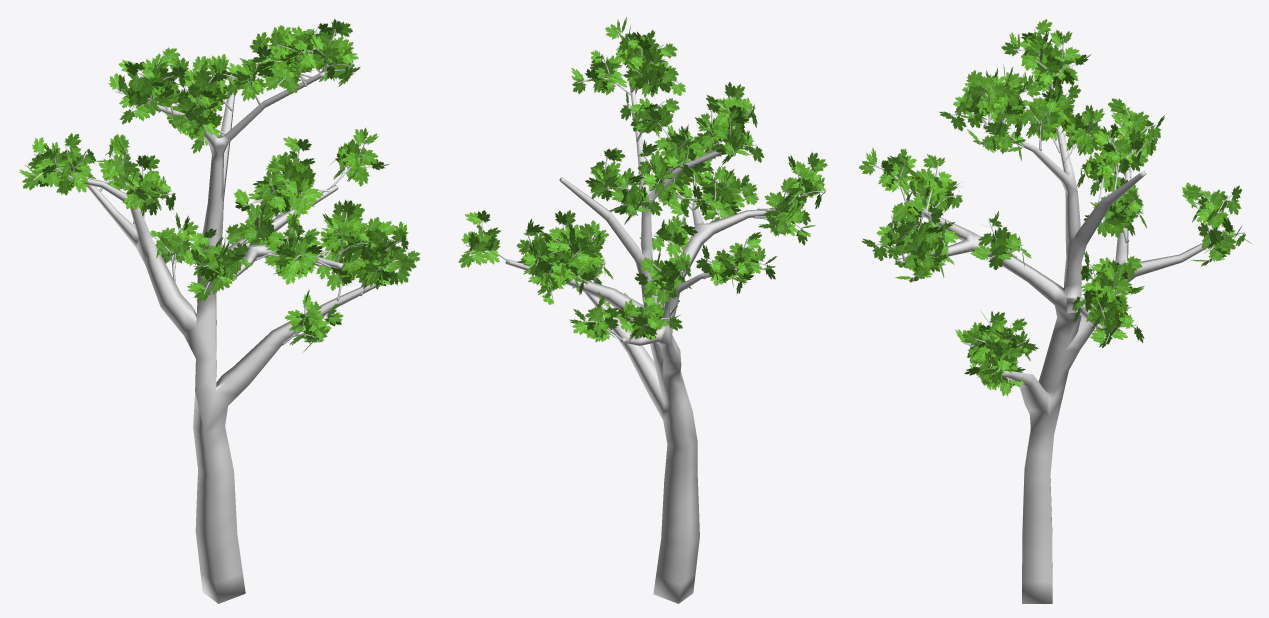
File: twigLeafTree.glb
The picture shows the model from 3 angles, left to right: view 1: azimuth 30°, elevation 25°; view 2: azimuth 150°, elevation 25°; view 3: azimuth 270°, elevation 25°; orthographic projection. The views are drawn at different scales.
Visible parts, largest first — view 1: Trunk; view 2: Trunk; view 3: Trunk.
Part boxes in pixels (x1,y1,x2,y2): Trunk: (72, 66, 379, 603); Trunk: (505, 81, 771, 603); Trunk: (895, 85, 1223, 603).
Size of the model in its own units: 6.74 by 10.4 by 6.58.
1 material, 1 textured.
